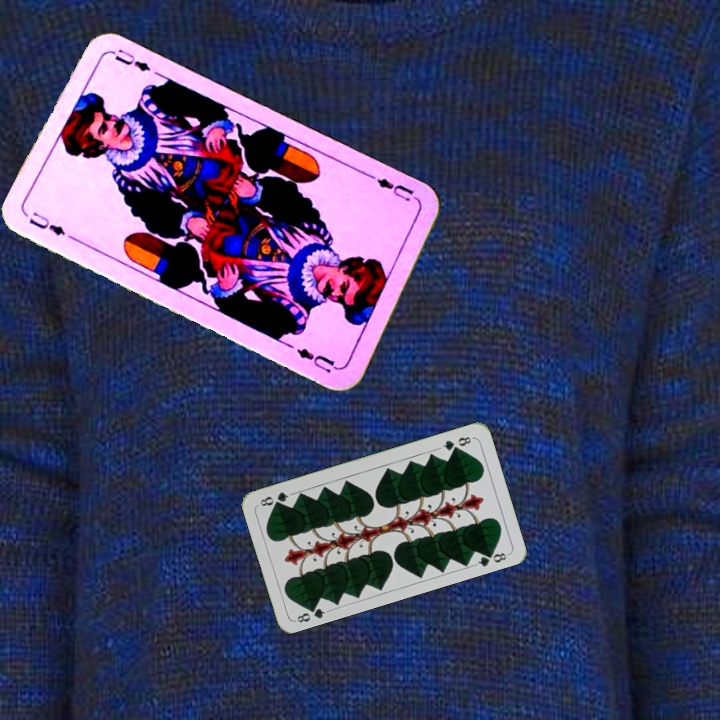EU: (366, 170, 421, 205), (25, 207, 68, 239)
G8: (291, 600, 331, 625), (436, 432, 476, 453)
